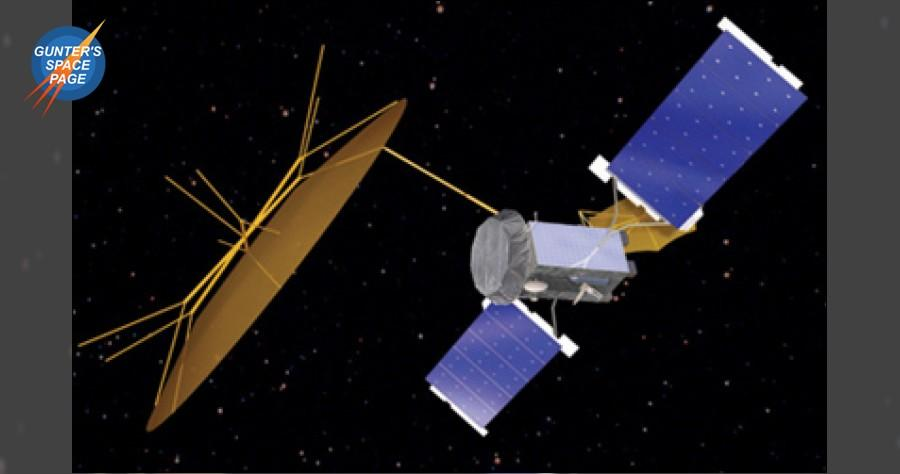antenna: (142, 94, 406, 440), (585, 186, 698, 255), (520, 277, 550, 306)
body: (470, 205, 629, 305)
solar: (586, 15, 811, 237), (423, 291, 580, 437)
